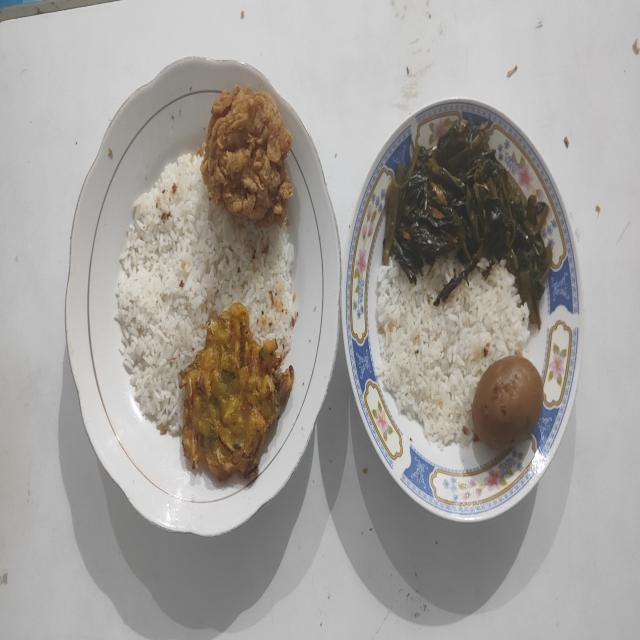nasi_putih: (115, 153, 296, 435), (376, 257, 530, 450)
tumis_kangkung: (383, 120, 552, 328)
